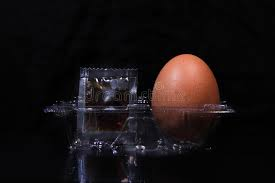egg: (152, 54, 221, 144)
